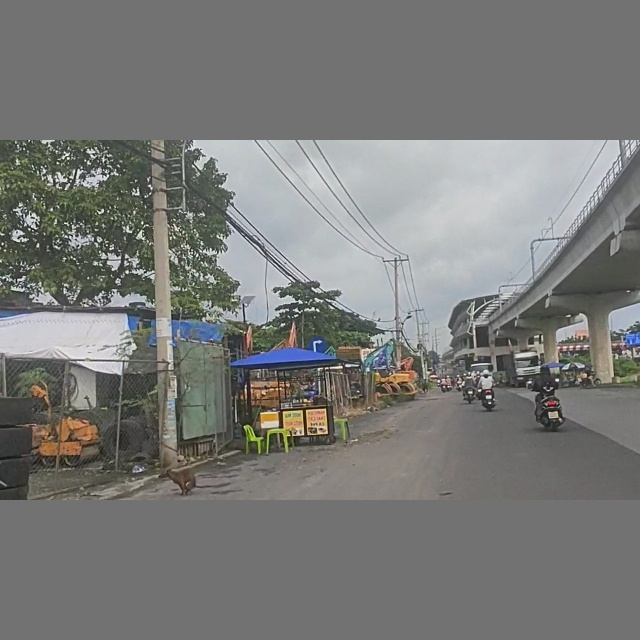R.301e: (308, 336, 329, 355)
